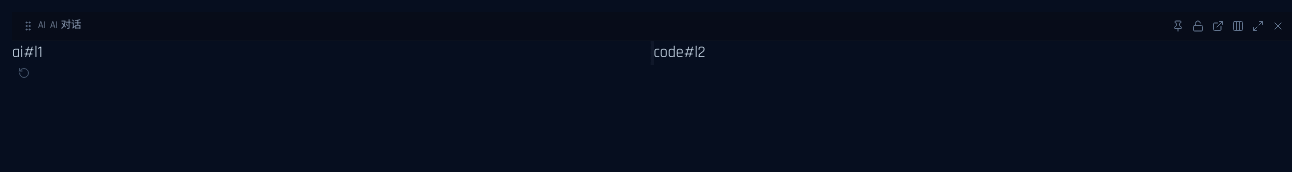
Test case: PanelManager 布局操作 › 最大化/还原: MaximizedView 独占渲染
Later steps or results of the test are not shown.
Click the button titled "最大化" at (1258, 26), box [1248, 16, 1268, 36]
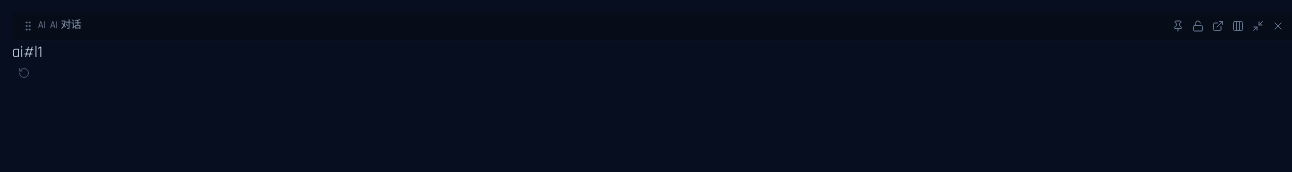
Expected: the element showing "AI AI 对话 ai#l1" is shown, [12, 12, 1291, 81]
Now the text "code#l2" is gone
